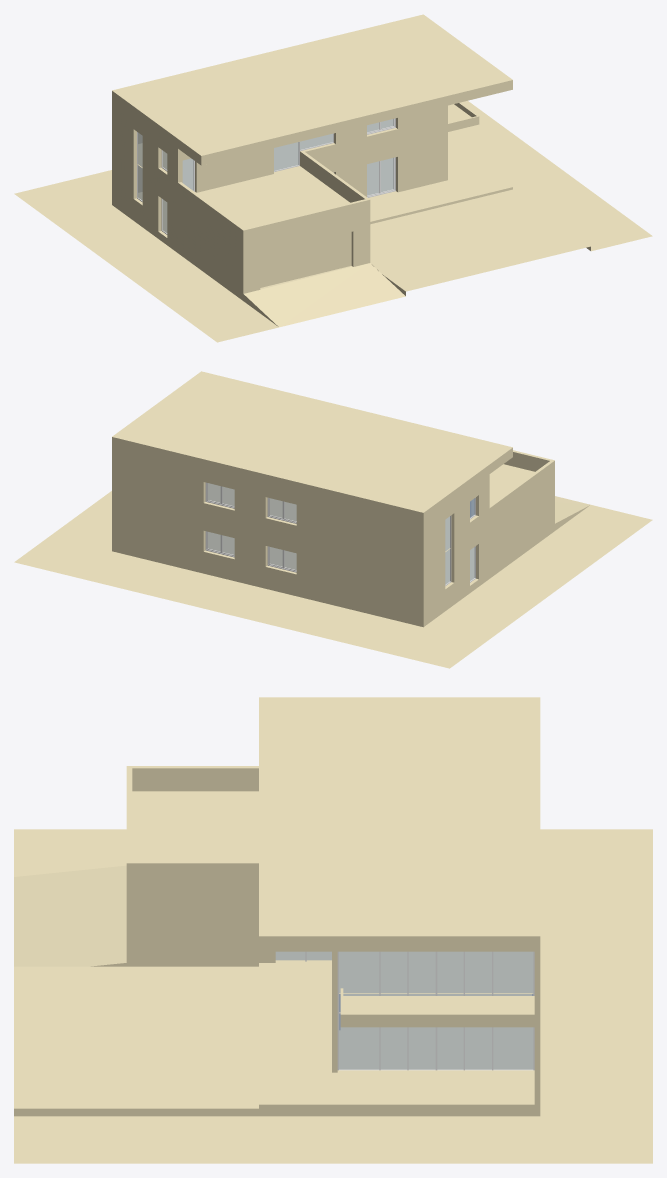
3 renders of one model, top to bottom at view 1: azimuth 30°, elevation 25°; view 2: azimuth 150°, elevation 25°; view 3: azimuth 270°, elevation 25°, orthographic. The views are drawn at different scales.
Visible parts, largest first — view 1: 18053, 18762, 17862, 18661, 18590, 19727, 23145, 18814; view 2: 18053, 18762, 17862, 18661, 19843, 19845, 19846, 19844, 22966; view 3: 18053, 18762, 17862, 19993, 18661, 18814.
Part boxes in pixels (x1=…): 18053: x1=14, y1=100, x2=652, y2=342; 18762: x1=112, y1=14, x2=512, y2=165; 17862: x1=112, y1=131, x2=447, y2=293; 18661: x1=112, y1=100, x2=447, y2=196; 18590: x1=260, y1=232, x2=351, y2=287; 19727: x1=367, y1=157, x2=395, y2=197; 23145: x1=274, y1=133, x2=333, y2=171; 18814: x1=448, y1=102, x2=479, y2=131; 18053: x1=14, y1=446, x2=652, y2=668; 18762: x1=112, y1=371, x2=512, y2=522; 17862: x1=153, y1=450, x2=554, y2=619; 18661: x1=153, y1=457, x2=489, y2=571; 19843: x1=267, y1=546, x2=296, y2=572; 19845: x1=205, y1=531, x2=234, y2=557; 19846: x1=205, y1=482, x2=234, y2=508; 19844: x1=267, y1=497, x2=296, y2=523; 22966: x1=445, y1=515, x2=451, y2=585; 18053: x1=14, y1=829, x2=652, y2=1163; 18762: x1=259, y1=697, x2=540, y2=951; 17862: x1=126, y1=766, x2=337, y2=1072; 19993: x1=337, y1=951, x2=534, y2=1070; 18661: x1=332, y1=951, x2=533, y2=995; 18814: x1=340, y1=988, x2=534, y2=1027.
Bounding box in the file's own units: 28.1 × 7.05 × 22.7.
